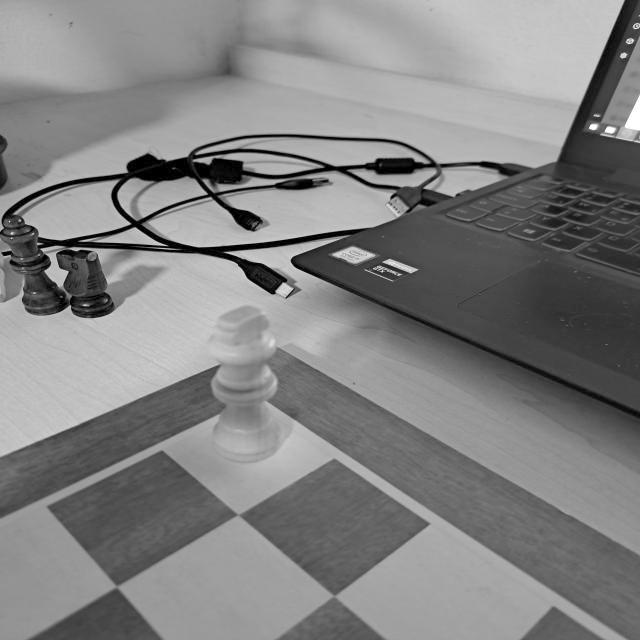chess-table-corners: (192, 383, 322, 441)
